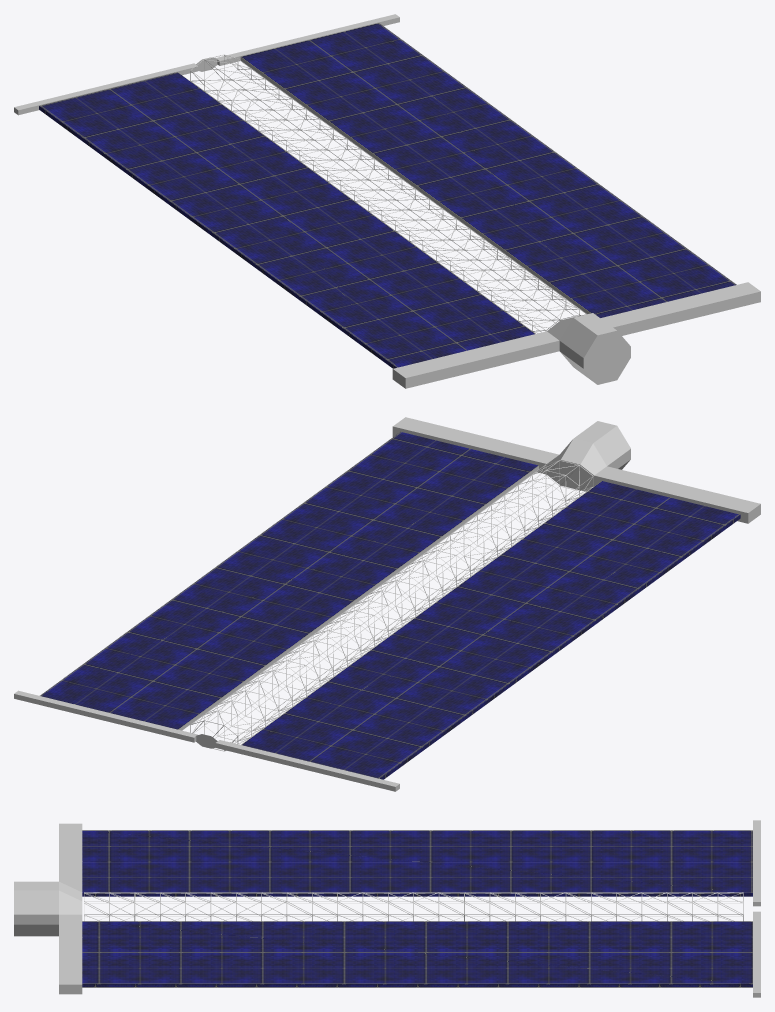
The model's file is solar_panel.fbx.
The picture shows the model from 3 angles, top to bottom: view 1: azimuth 30°, elevation 25°; view 2: azimuth 150°, elevation 25°; view 3: azimuth 270°, elevation 25°; orthographic projection. The views are drawn at different scales.
Parts seen in each view (by area): view 1: Panels, Body; view 2: Panels, Body; view 3: Panels, Body.
Boxes of the visible parts, box(x1,y1,x2,y2) form: Panels: box(39, 23, 736, 368); Body: box(14, 14, 760, 388); Panels: box(40, 432, 740, 779); Body: box(14, 417, 760, 791); Panels: box(82, 830, 752, 987); Body: box(14, 820, 760, 997).
Size of the model in its own units: 14.87 by 1.85 by 27.17.
